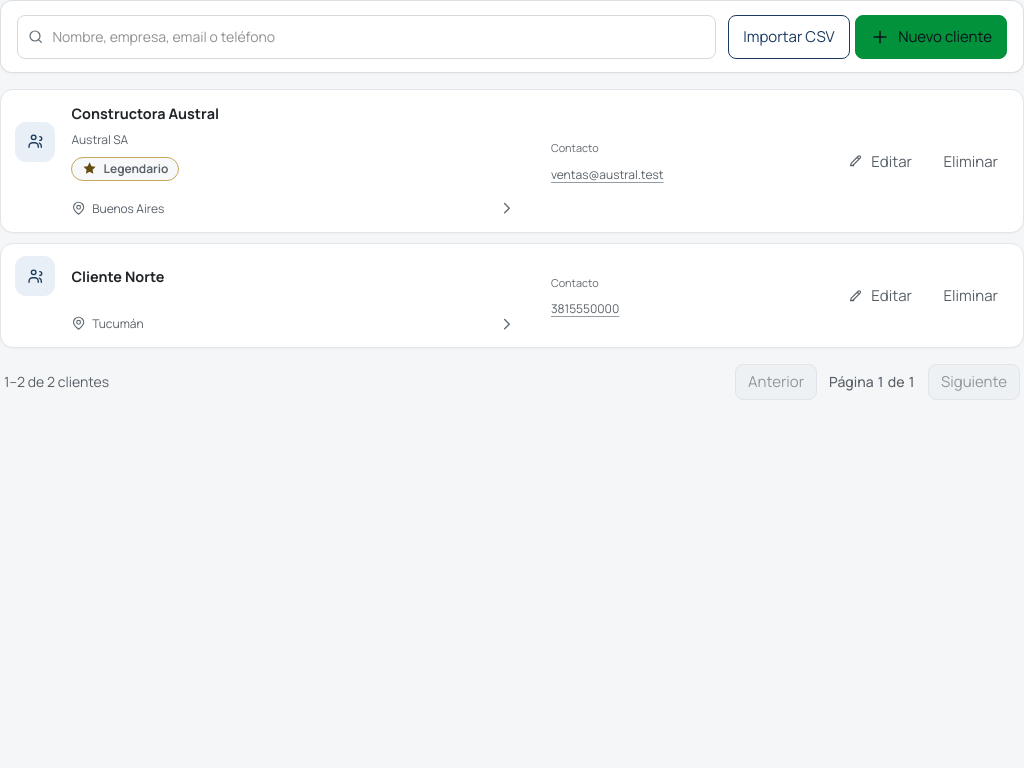
Test case: CustomersPage › preserves edits and refreshes the expected version after a stale customer update
This screenshot has width=1024, height=768.
Expected: the link "Constructora Austral" is shown, [1,90,541,232]
Click the button with aria-label "Editar a Constructora Austral": (880, 161) [835,139,925,183]
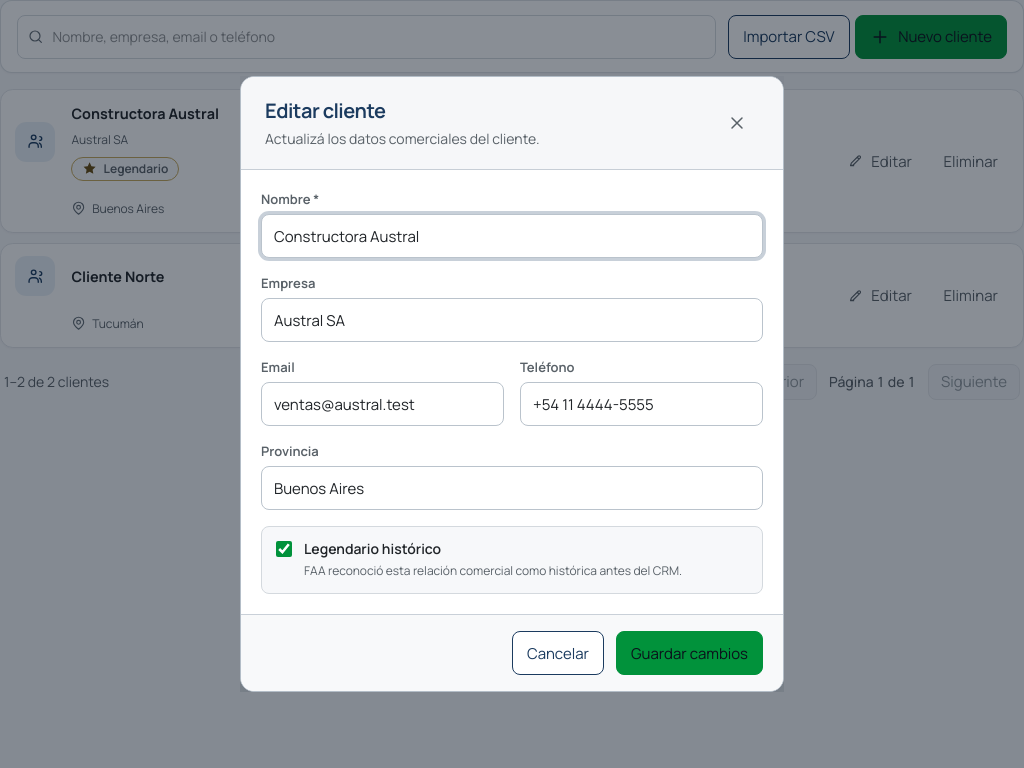
Replace the text in the field labelled "Empresa" with "Austral con edición local": (512, 320) [261,298,763,342]
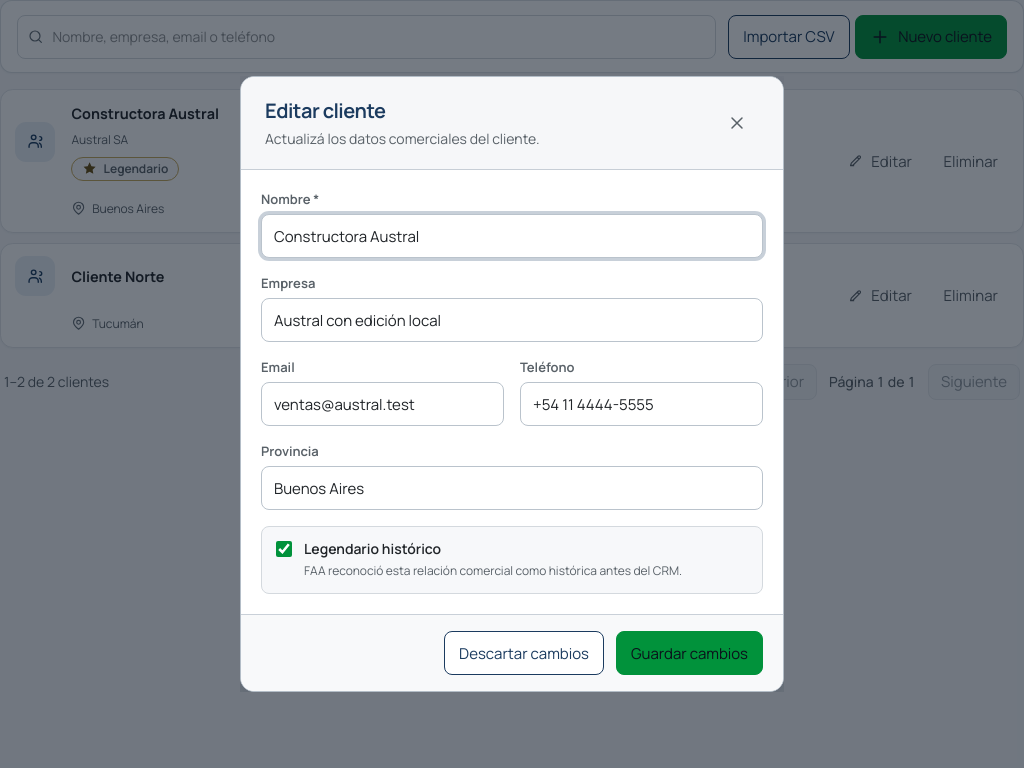
Click the button "Guardar cambios": (689, 653) [616,631,763,675]
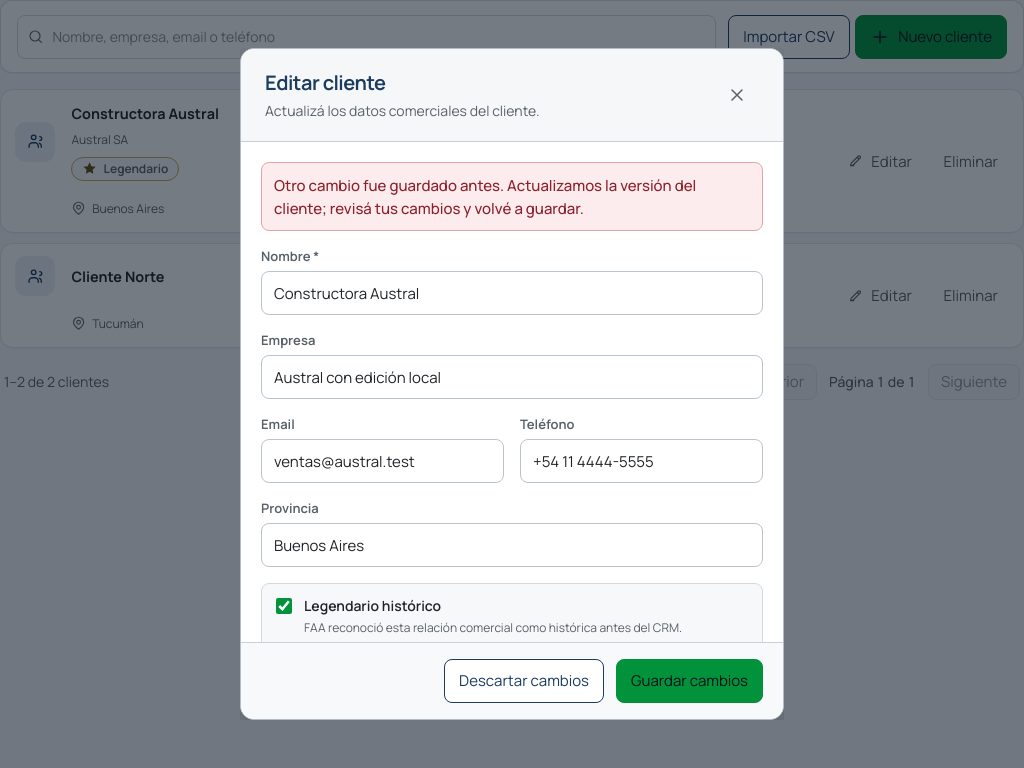
Result: the message shows "Otro cambio fue guardado" at [274,175,696,219]
Click the button "Guardar cambios": (689, 681) [616,659,763,703]
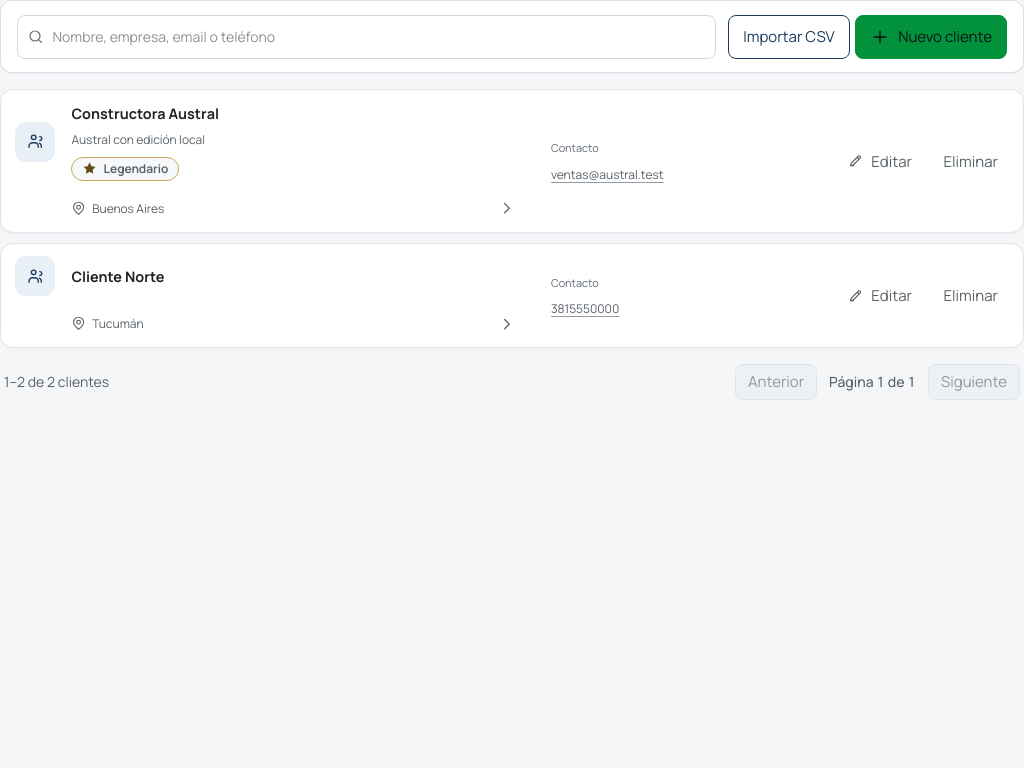
Result: the dialog is gone
